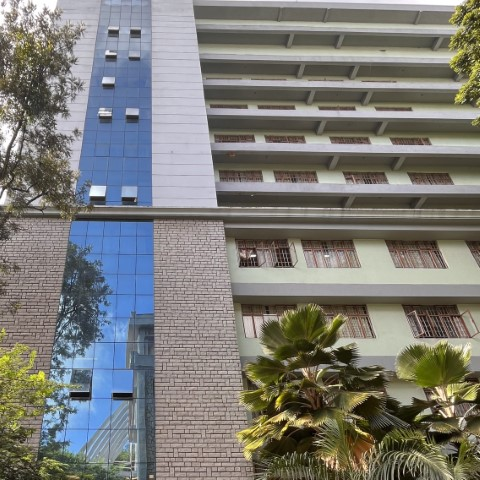Central Block: (58, 1, 480, 449)
